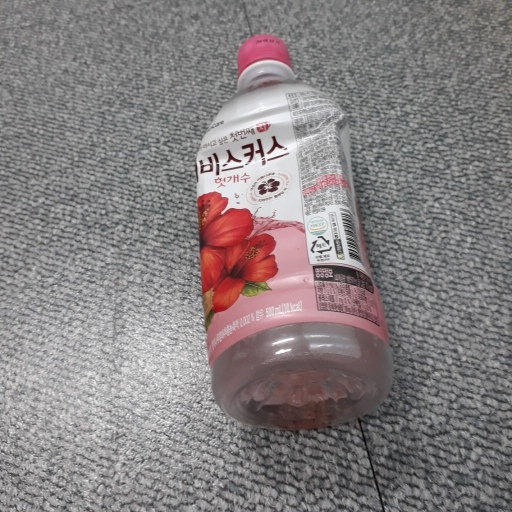Plastic_0: (192, 32, 396, 430)
